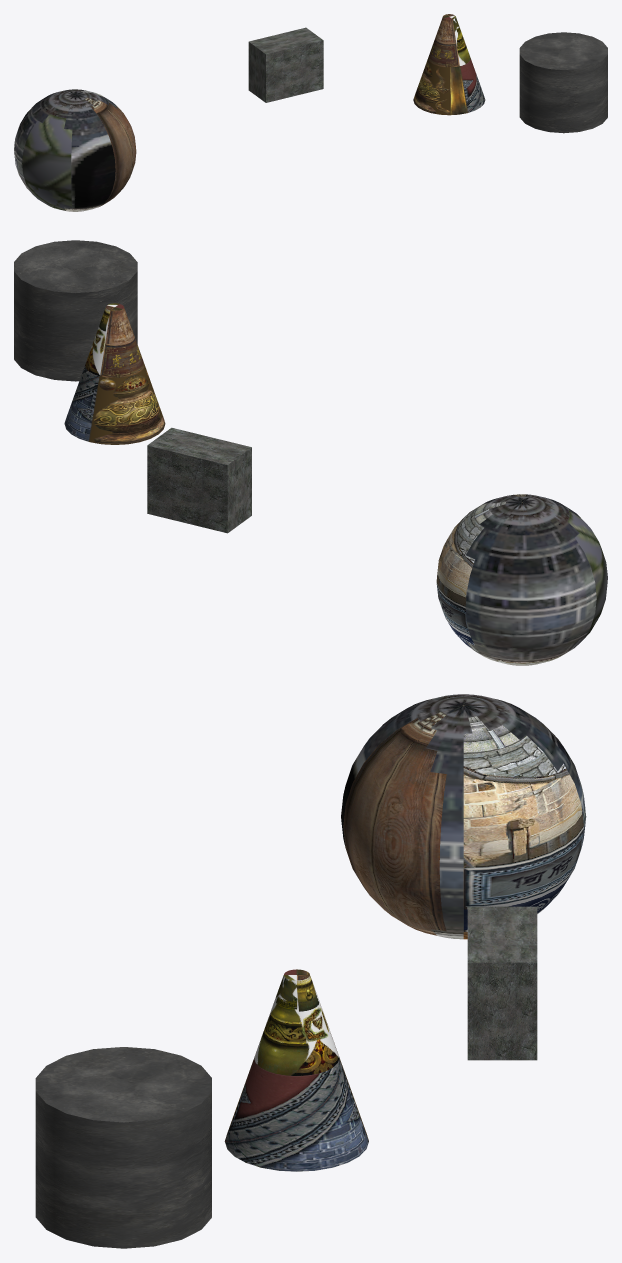
File: aaa.FBX
3 views of the same model, one above another, from view 1: azimuth 30°, elevation 25°; view 2: azimuth 150°, elevation 25°; view 3: azimuth 270°, elevation 25° (orthographic). The views are drawn at different scales.
Parts seen in each view (by area): view 1: Sphere001, Cylinder001, Box001, Cone001; view 2: Sphere001, Cylinder001, Box001, Cone001; view 3: Sphere001, Cylinder001, Cone001, Box001.
Boxes of the visible parts, x1,y1,x2,y2 form: Sphere001: [14, 89, 136, 211]; Cylinder001: [519, 32, 607, 133]; Box001: [248, 27, 323, 102]; Cone001: [413, 14, 485, 115]; Sphere001: [436, 494, 607, 665]; Cylinder001: [14, 240, 137, 381]; Box001: [147, 427, 251, 533]; Cone001: [64, 303, 165, 444]; Sphere001: [341, 694, 586, 939]; Cylinder001: [35, 1047, 211, 1248]; Cone001: [224, 969, 368, 1171]; Box001: [467, 906, 537, 1060].
Size of the model in its own units: 199 by 53.21 by 95.67.
7 materials, 7 textured.
